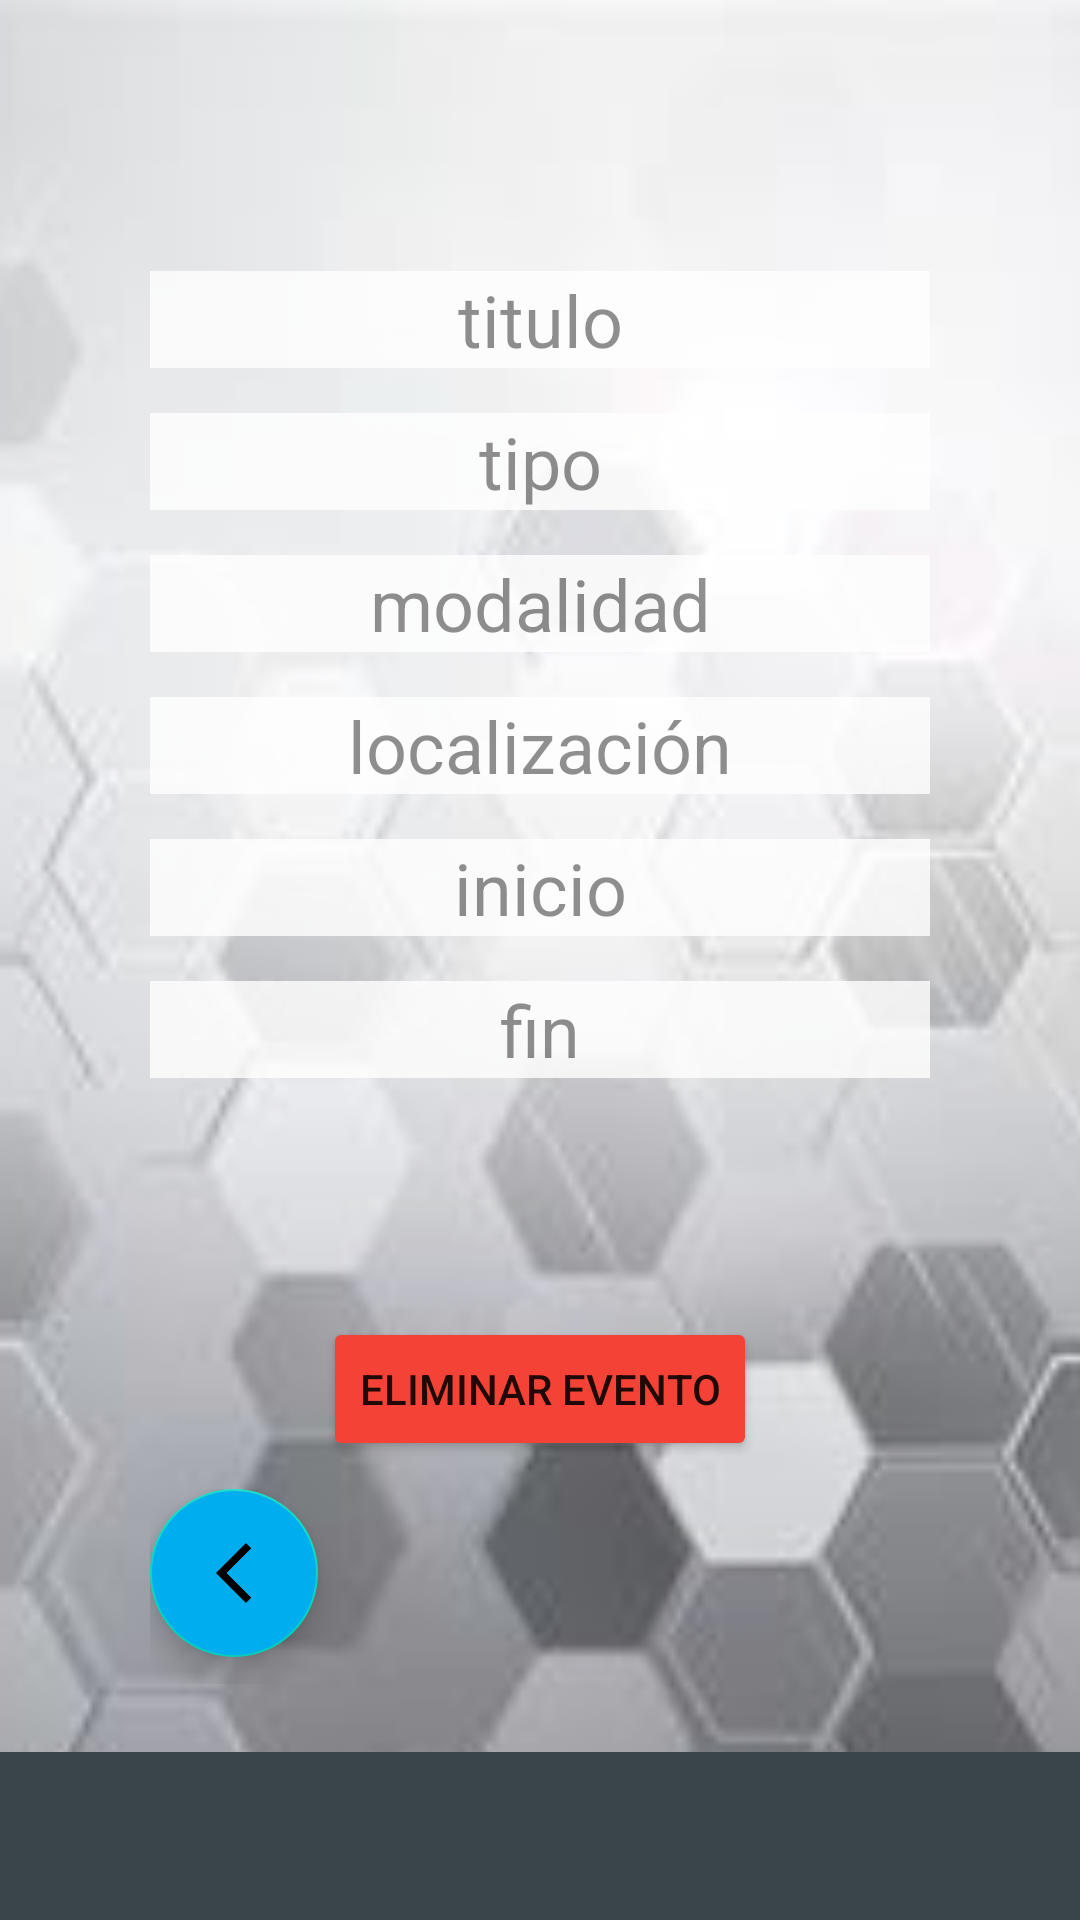

Point at icon controls on the screen. Image size 1080w x 1920h, points as [x,y].
volver: [234,1573]
